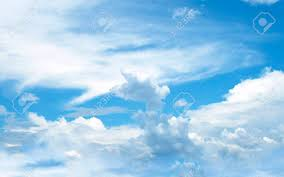sky: (1, 2, 284, 171)
